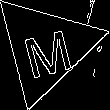M_N: (17, 17, 75, 77)
